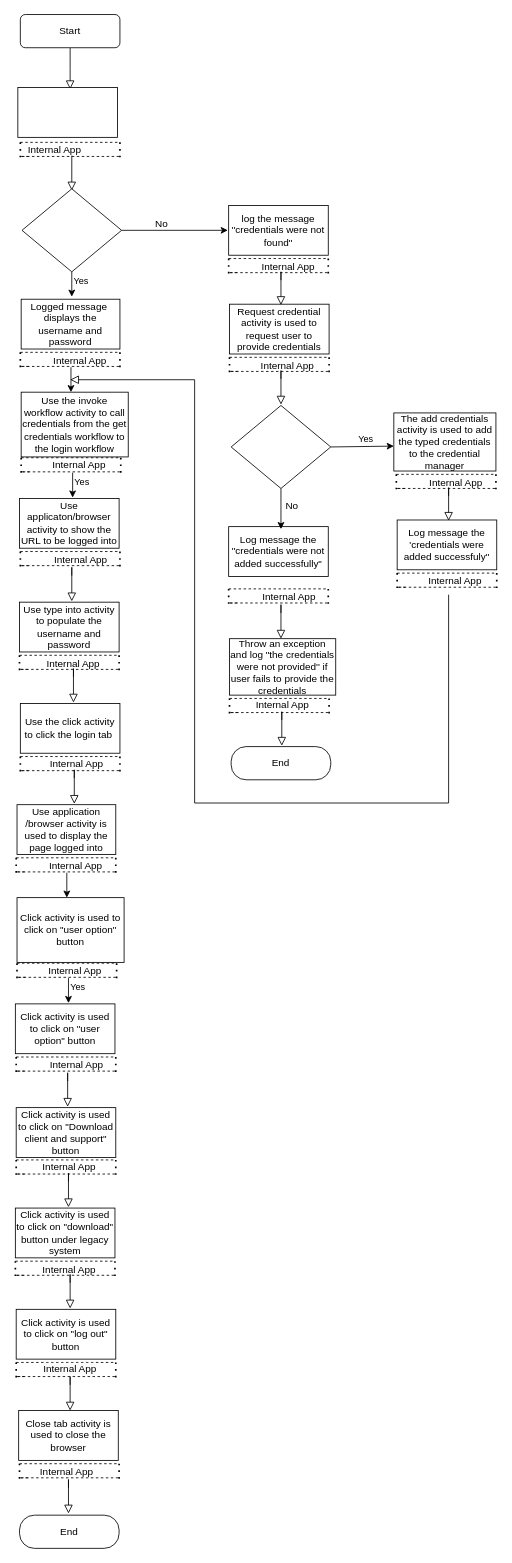
This 512x1563 diagram has some shape labels left out. Here are the shapes that lost their labels. From the top down, the centre of each, then its label:
At [67,112]: "Get credentials from the credential manager".
At [71,230]: "Were the credentials found?".
At [280,446]: "Were the correct credentials provided?".
